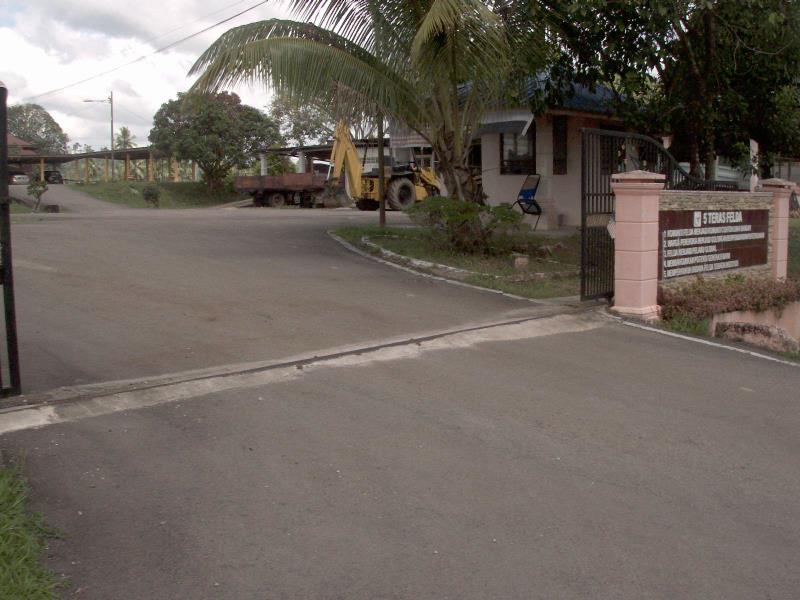ads_sign: (648, 189, 785, 289)
